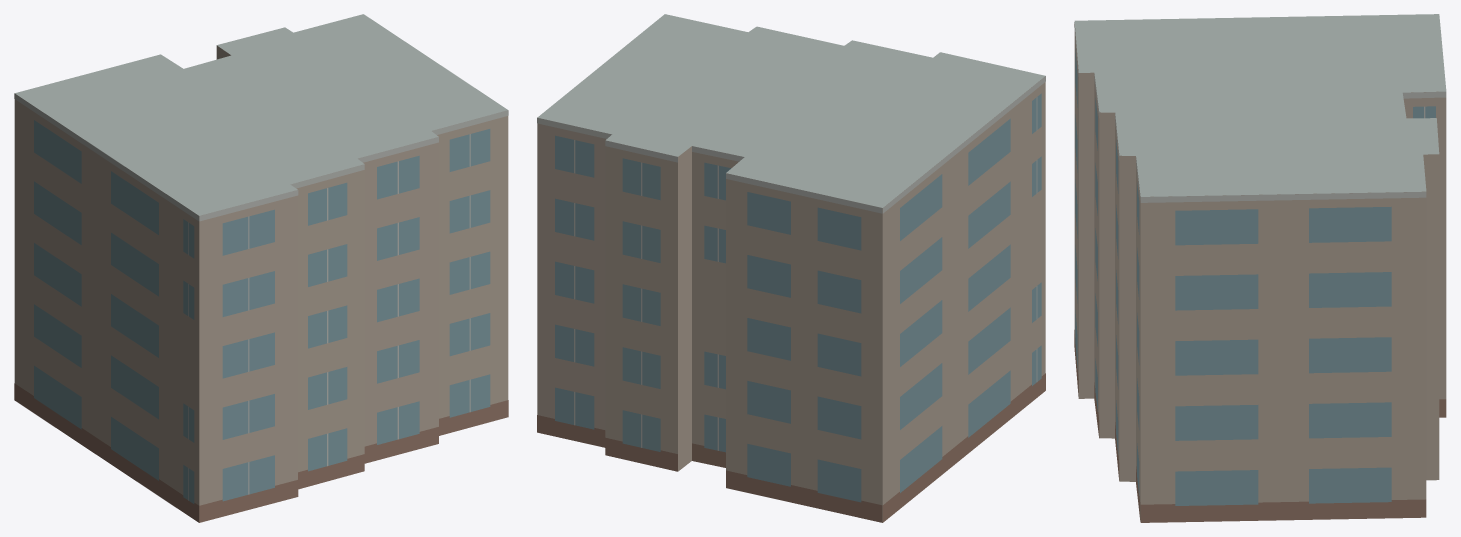
Rendered from survey-upis-32527477.glb.
3 views of the same model, side by side, from view 1: azimuth 30°, elevation 25°; view 2: azimuth 150°, elevation 25°; view 3: azimuth 270°, elevation 25° (orthographic). The views are drawn at different scales.
Parts seen in each view (by area): view 1: survey-upis-32527477.tmp; view 2: survey-upis-32527477.tmp; view 3: survey-upis-32527477.tmp.
Boxes of the visible parts, x1,y1,x2,y2 form: survey-upis-32527477.tmp: [14, 14, 508, 522]; survey-upis-32527477.tmp: [537, 14, 1045, 522]; survey-upis-32527477.tmp: [1074, 14, 1446, 522].
Bounding box in the file's own units: 16.02 × 13.3 × 13.76.
